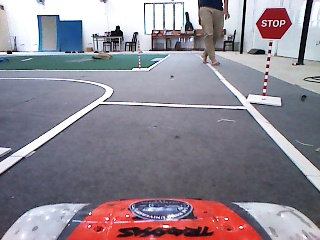stop: (255, 7, 294, 40)
